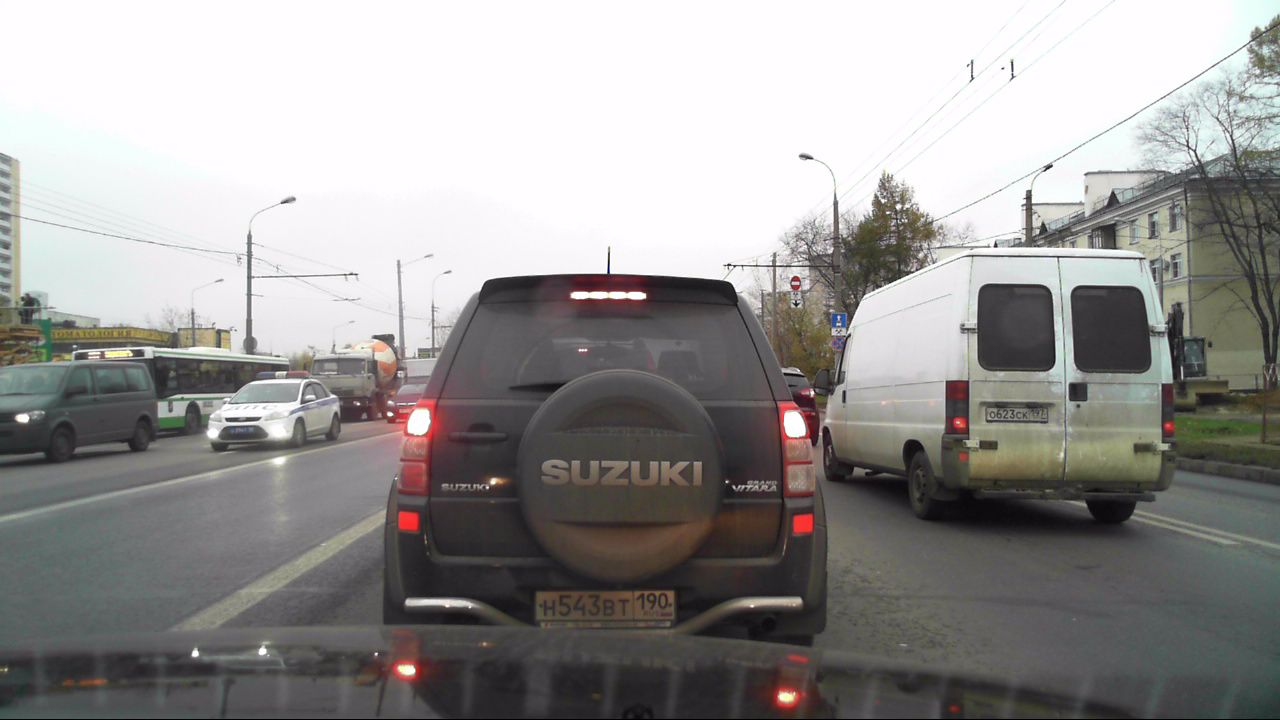No Parking: (829, 336, 848, 352)
